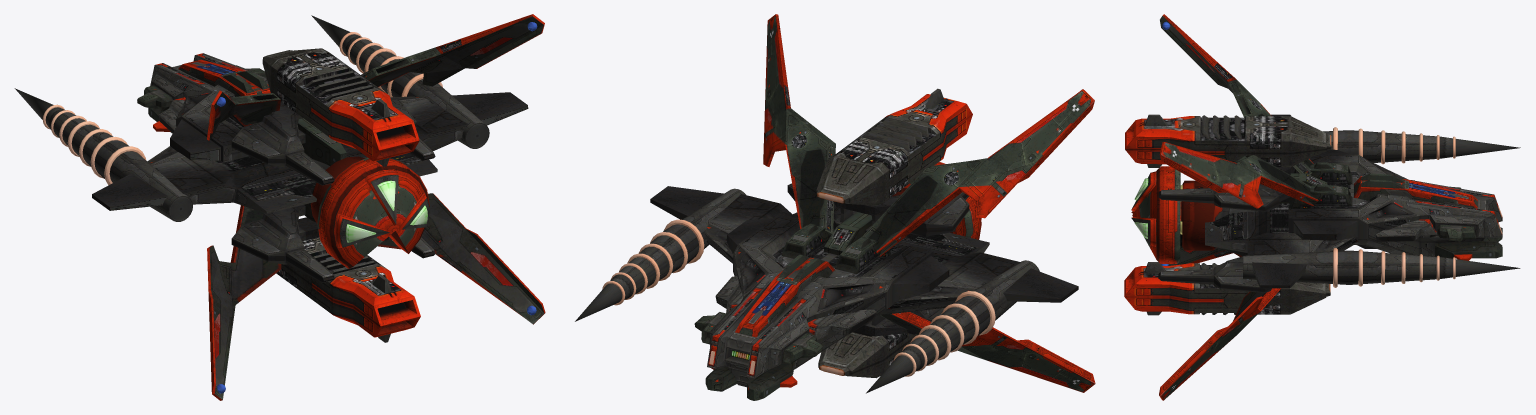
File: meteo_crusher.glb
3 renders of one model, left to right at view 1: azimuth 30°, elevation 25°; view 2: azimuth 150°, elevation 25°; view 3: azimuth 270°, elevation 25°, orthographic. The views are drawn at different scales.
Visible parts, largest first — view 1: body, rotator, turret02, turret03, turret01; view 2: body, turret02, turret03, rotator; view 3: body, turret03, turret02, rotator, turret01.
Part boxes in pixels (x1,y1,x2,y2): body: (92, 14, 545, 400); rotator: (317, 157, 429, 268); turret02: (14, 88, 192, 221); turret03: (311, 15, 489, 148); turret01: (335, 171, 429, 247); body: (650, 14, 1095, 400); turret02: (866, 260, 1039, 393); turret03: (575, 188, 745, 321); rotator: (909, 162, 981, 239); body: (1124, 14, 1502, 400); turret03: (1243, 248, 1520, 287); turret02: (1323, 127, 1520, 164); rotator: (1132, 166, 1180, 263); turret01: (1131, 171, 1156, 246).
Size of the model in its own units: 530 by 375 by 521.
2 materials, 1 textured.
